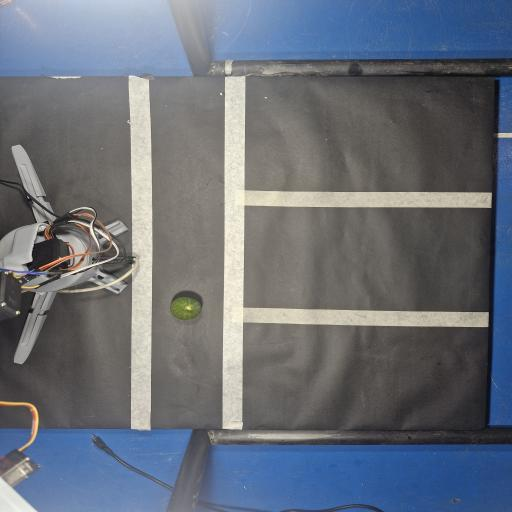higo: (170, 297, 201, 320)
